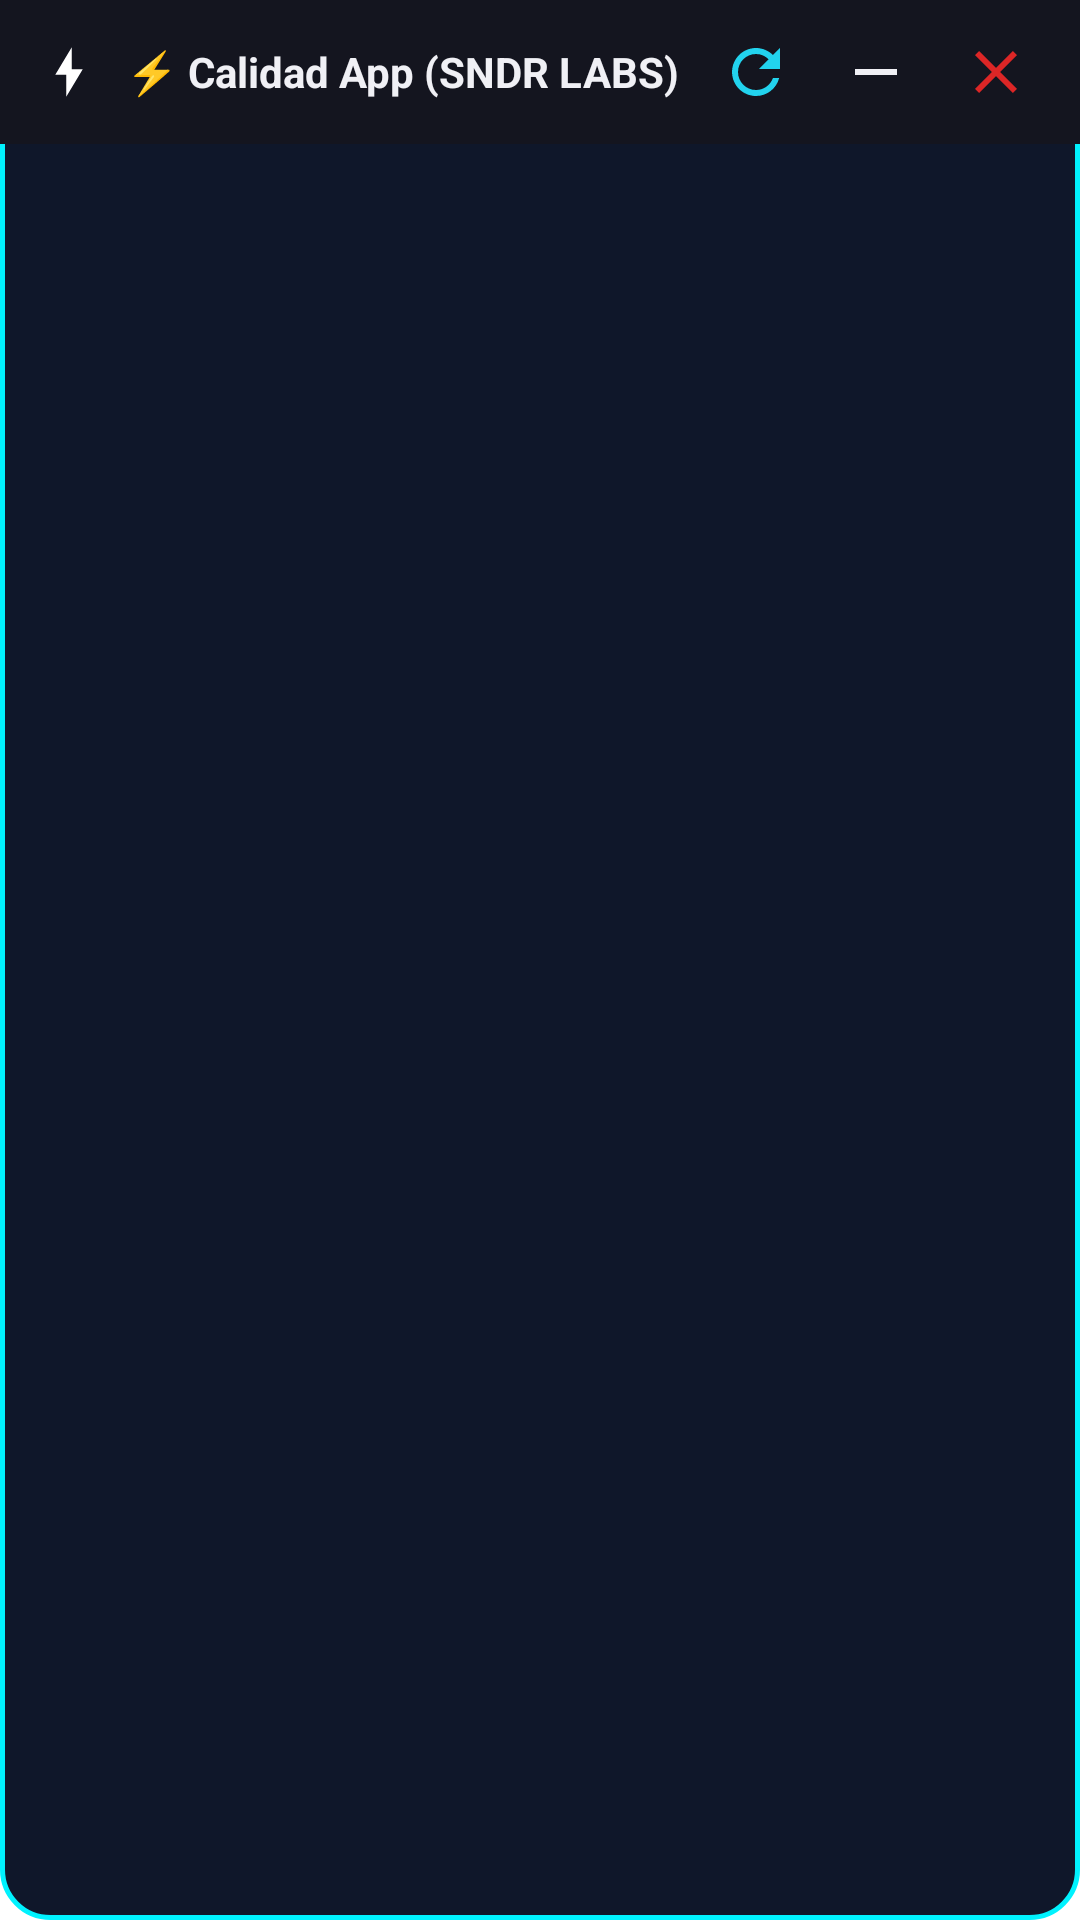

Screen size 1080*1920. Icon name, then its box in pixels as (x1, y1, x2, y2):
Cerrar: (975, 51, 1017, 93)
Recargar: (732, 48, 780, 96)
